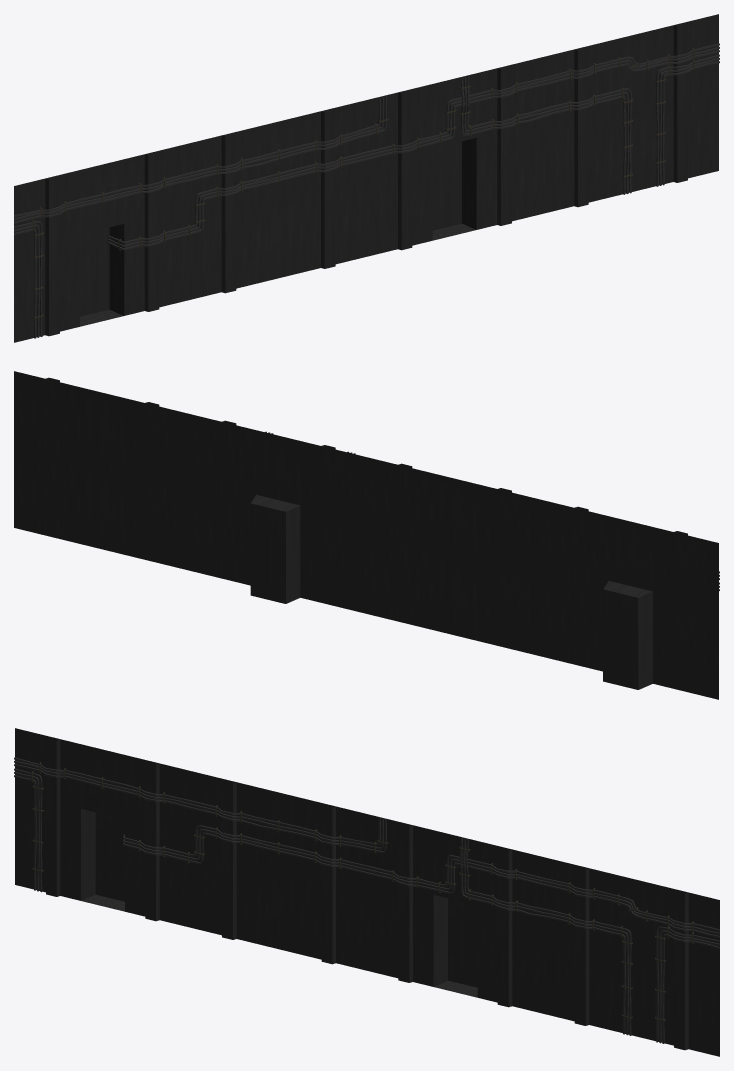
File: SW_ENV_RailTunnelWall_B_03b_20m_FF.fbx
3 views of the same model, one above another, from view 1: azimuth 30°, elevation 25°; view 2: azimuth 150°, elevation 25°; view 3: azimuth 330°, elevation 25° (orthographic).
Visible parts, largest first — view 1: SW_ENV_RailTunnelWall_B_03b_20m_FF; view 2: SW_ENV_RailTunnelWall_B_03b_20m_FF; view 3: SW_ENV_RailTunnelWall_B_03b_20m_FF.
Boxes of the visible parts, x1,y1,x2,y2 form: SW_ENV_RailTunnelWall_B_03b_20m_FF: (14,14,719,342); SW_ENV_RailTunnelWall_B_03b_20m_FF: (14,371,719,699); SW_ENV_RailTunnelWall_B_03b_20m_FF: (14,728,719,1056).
Size of the model in its own units: 2000 by 425 by 64.88.
